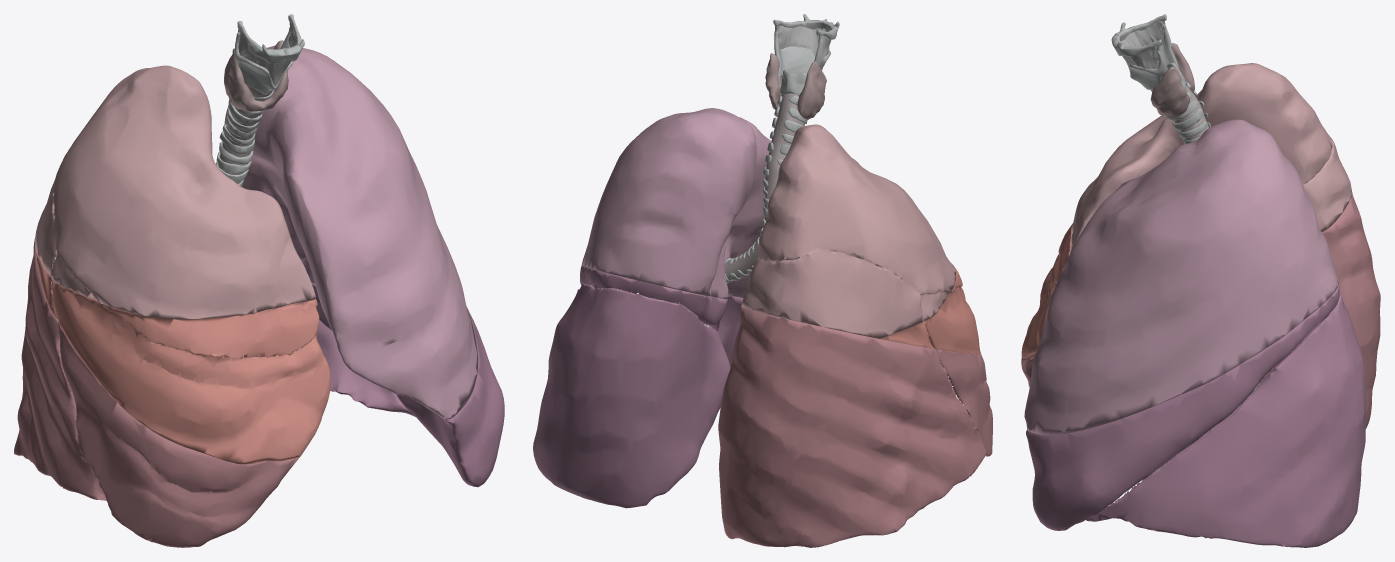
The model's file is lung_lobes_teaching.glb.
3 renders of one model, left to right at view 1: azimuth 30°, elevation 25°; view 2: azimuth 150°, elevation 25°; view 3: azimuth 270°, elevation 25°, orthographic. The views are drawn at different scales.
Parts seen in each view (by area): view 1: Left_Superior_Lobe, Right_Superior_Lobe, Right_Middle_Lobe, Right_Inferior_Lobe, Left_Inferior_Lobe, Hyoid_bone, Trachea_kraakbeen, Thyroid_gland, Tussen_hyoid_en_thyroid, bronchi1; view 2: Right_Inferior_Lobe, Left_Inferior_Lobe, Right_Superior_Lobe, Left_Superior_Lobe, Right_Middle_Lobe, Hyoid_bone, bronchi1, Thyroid_gland, Trachea_kraakbeen, Tussen_hyoid_en_thyroid; view 3: Left_Superior_Lobe, Left_Inferior_Lobe, Right_Superior_Lobe, Right_Inferior_Lobe, Hyoid_bone, Thyroid_gland, Right_Middle_Lobe, Tussen_hyoid_en_thyroid, Trachea_kraakbeen, bronchi1.
Boxes of the visible parts, x1,y1,x2,y2 form: Left_Superior_Lobe: (224,45,478,419); Right_Superior_Lobe: (35,65,315,319); Right_Middle_Lobe: (35,251,330,464); Right_Inferior_Lobe: (14,214,300,547); Left_Inferior_Lobe: (267,283,504,487); Hyoid_bone: (234,14,304,100); Trachea_kraakbeen: (171,99,262,348); Thyroid_gland: (224,40,288,111); Tussen_hyoid_en_thyroid: (238,21,296,85); bronchi1: (153,85,272,347); Right_Inferior_Lobe: (718,306,992,547); Left_Inferior_Lobe: (533,265,743,508); Right_Superior_Lobe: (741,124,955,338); Left_Superior_Lobe: (581,108,779,299); Right_Middle_Lobe: (880,266,981,354); Hyoid_bone: (773,14,839,96); bronchi1: (638,93,804,304); Thyroid_gland: (765,53,826,119); Trachea_kraakbeen: (724,95,807,283); Tussen_hyoid_en_thyroid: (775,25,831,57); Left_Superior_Lobe: (1024,119,1338,435); Left_Inferior_Lobe: (1026,284,1366,547); Right_Superior_Lobe: (1069,63,1352,254); Right_Inferior_Lobe: (1021,193,1380,428); Hyoid_bone: (1111,14,1186,90); Thyroid_gland: (1150,43,1194,118); Right_Middle_Lobe: (1021,223,1072,359); Tussen_hyoid_en_thyroid: (1121,20,1165,72); Trachea_kraakbeen: (1168,81,1210,144); bronchi1: (1150,85,1262,474).
Size of the model in its own units: 296 by 321 by 236.
